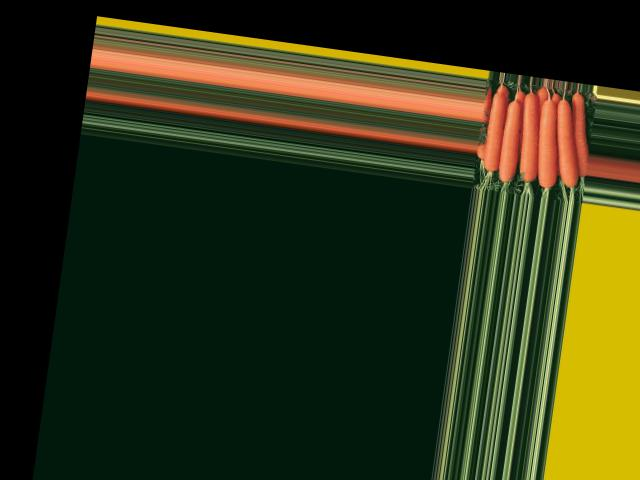carrot: (559, 94, 597, 180)
